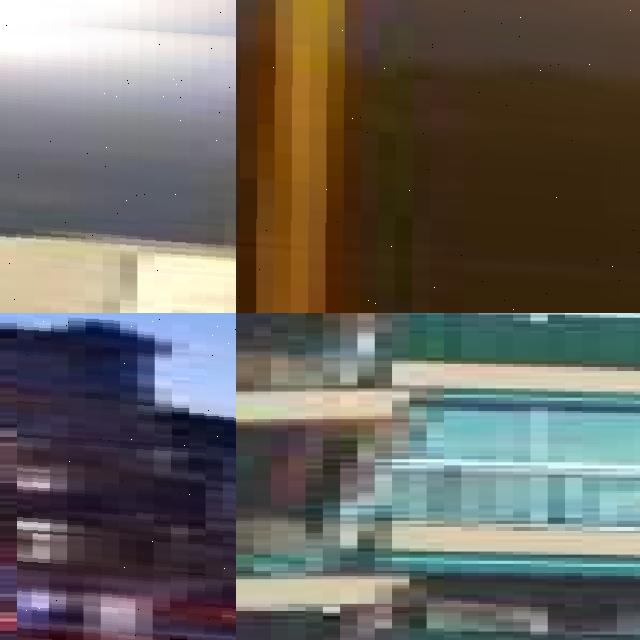street light: (236, 0, 640, 313), (0, 0, 236, 313), (17, 313, 236, 640)
